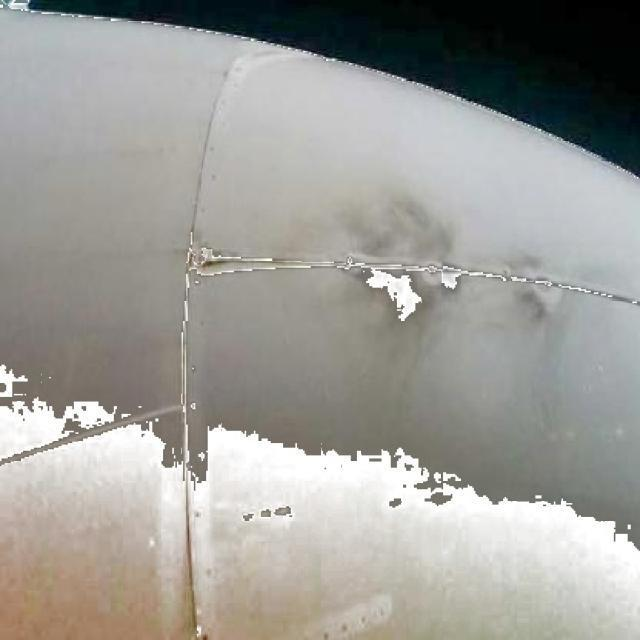crack: (191, 254, 346, 273)
